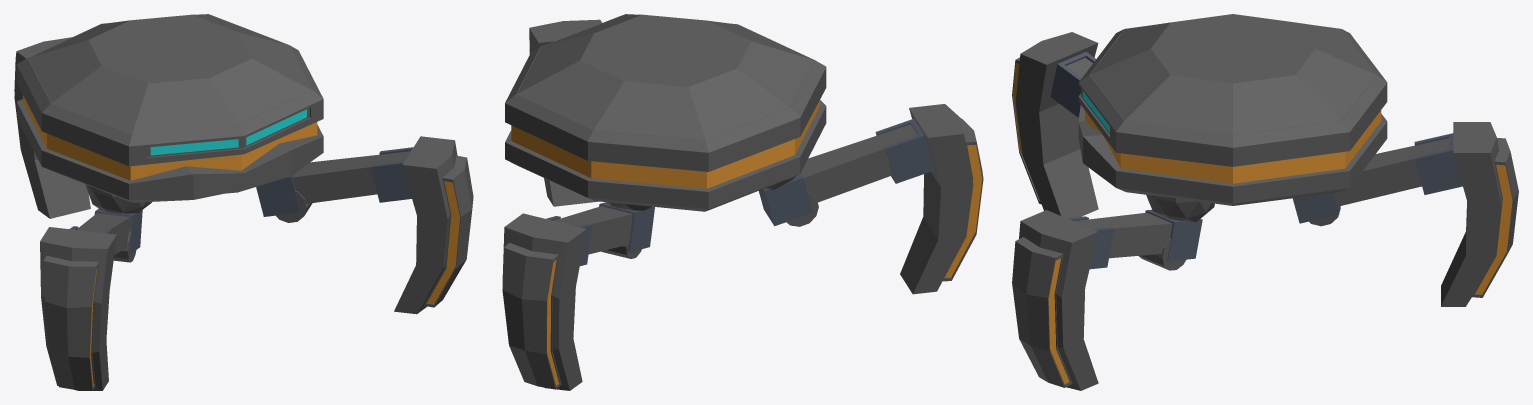
File: smallTripod.fbx
The picture shows the model from 3 angles, left to right: view 1: azimuth 30°, elevation 25°; view 2: azimuth 150°, elevation 25°; view 3: azimuth 270°, elevation 25°; orthographic projection. The views are drawn at different scales.
Visible parts, largest first — view 1: triTop, triBase, legClaw.001, Cube.001, legClaw, smallerJoint.003, smallerJoint.002, ballJoint.001, rotateJoint.001; view 2: triTop, triBase, legClaw, legClaw.001, Cube.001, Cube, smallerJoint.002, smallerJoint.003, smallerJoint.001; view 3: triTop, triBase, legClaw.001, legClaw, Cube, Cube.001, smallerJoint.002, smallerJoint, smallerJoint.003, ballJoint.001, smallerJoint.001, rotateJoint.001.
Part boxes in pixels (x1,y1,x2,y2): triTop: (28,14,311,134); triBase: (16,14,323,202); legClaw.001: (40,136,473,390); Cube.001: (76,151,409,254); legClaw: (14,37,90,218); smallerJoint.003: (94,173,300,253); smallerJoint.002: (69,147,413,233); ballJoint.001: (85,184,151,213); rotateJoint.001: (113,191,312,262); triTop: (517,14,813,139); triBase: (505,14,826,211); legClaw: (502,213,586,390); legClaw.001: (529,19,983,294); Cube.001: (800,124,917,202); Cube: (554,206,632,254); smallerJoint.002: (875,118,934,183); smallerJoint.003: (759,173,812,226); smallerJoint.001: (599,202,654,252); triTop: (1090,14,1375,135); triBase: (1078,26,1387,205); legClaw.001: (1012,32,1098,390); legClaw: (1441,122,1518,306); Cube: (1333,138,1449,206); Cube.001: (1066,57,1172,258); smallerJoint.002: (1050,51,1114,269); smallerJoint: (1414,133,1462,194); smallerJoint.003: (1145,209,1202,261); ballJoint.001: (1146,195,1214,222); smallerJoint.001: (1292,193,1339,223); rotateJoint.001: (1139,238,1185,270).
Size of the model in its own units: 184 by 97.34 by 181.
Materials: 3 (3 with a texture image).
